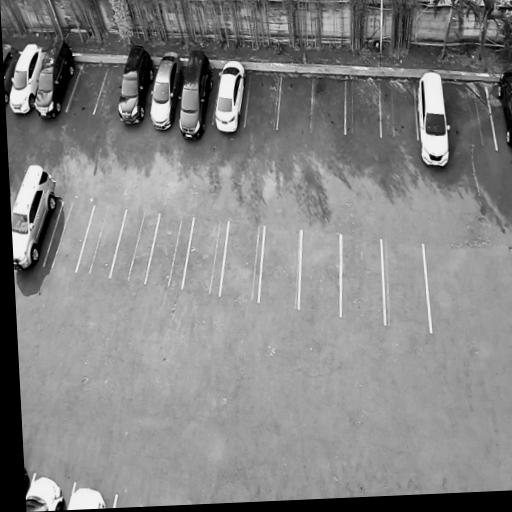Car: (11, 155, 62, 283), (30, 34, 80, 122), (175, 44, 219, 144), (114, 37, 159, 128), (413, 68, 453, 168), (147, 48, 185, 135), (210, 50, 248, 137), (6, 40, 47, 117), (25, 468, 70, 512), (495, 64, 512, 155), (61, 481, 112, 510), (2, 39, 22, 110)
Space Available: (382, 241, 431, 331), (341, 233, 385, 323), (110, 209, 160, 283), (182, 217, 229, 295), (43, 201, 94, 272), (299, 230, 341, 316), (146, 212, 194, 287), (76, 206, 127, 276), (220, 223, 265, 302), (259, 226, 302, 308), (380, 80, 418, 137), (66, 64, 109, 114), (244, 72, 281, 129), (310, 76, 346, 133), (345, 80, 381, 136), (278, 74, 313, 129), (94, 66, 125, 115)
